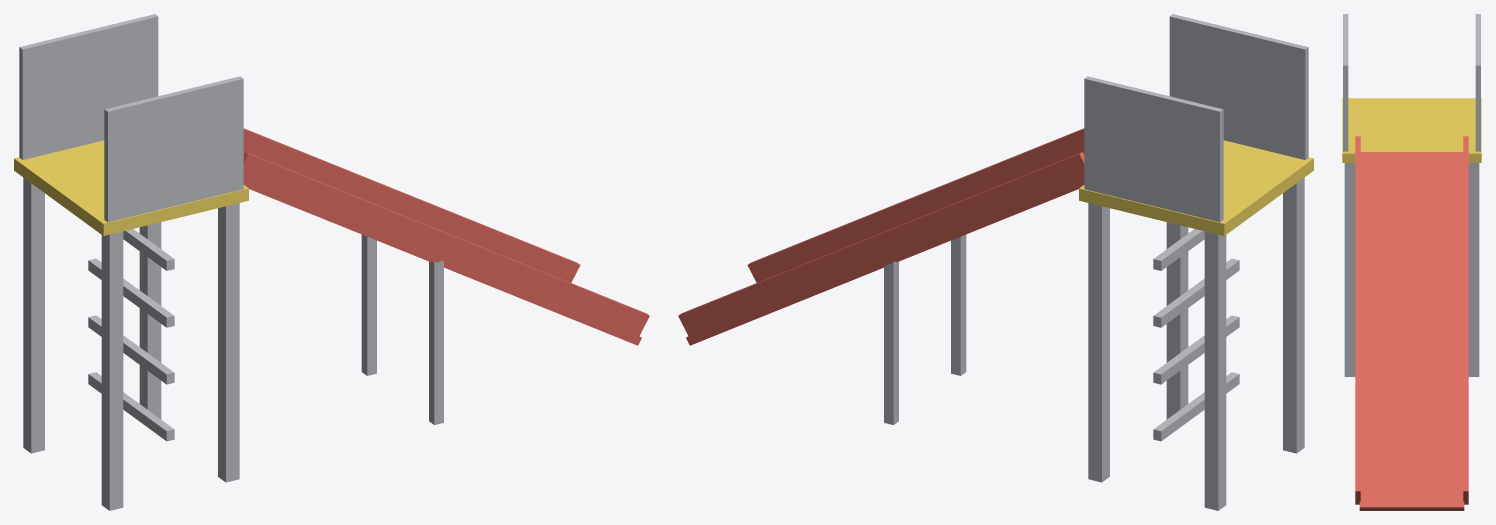
The model's file is dm_slide.glb.
3 views of the same model, side by side, from view 1: azimuth 30°, elevation 25°; view 2: azimuth 150°, elevation 25°; view 3: azimuth 270°, elevation 25° (orthographic). The views are drawn at different scales.
Visible parts, largest first — view 1: Slide; view 2: Slide; view 3: Slide.
Part boxes in pixels (left/top/right/bottom): Slide: left=14, top=14, right=649, bottom=510; Slide: left=678, top=14, right=1313, bottom=510; Slide: left=1342, top=14, right=1481, bottom=510.
Bounding box in the file's own units: 2.86 × 1.98 × 0.8.
